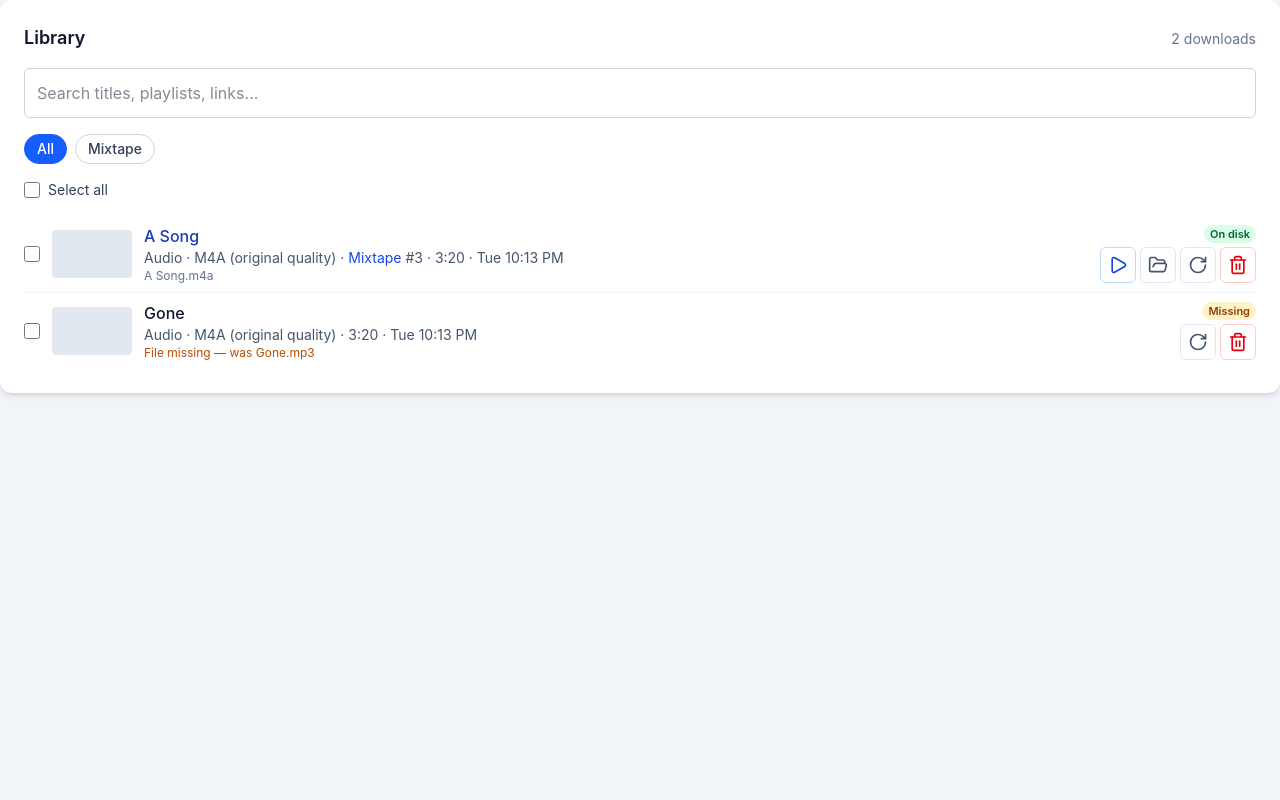
Test: LibraryView › adds selected downloads to a playlist and removes them
Expected: the button "A Song" is shown, [144,224,199,248]
Click the checkbox labelled "Select all".
click(32, 190)  # box [24,182,40,198]
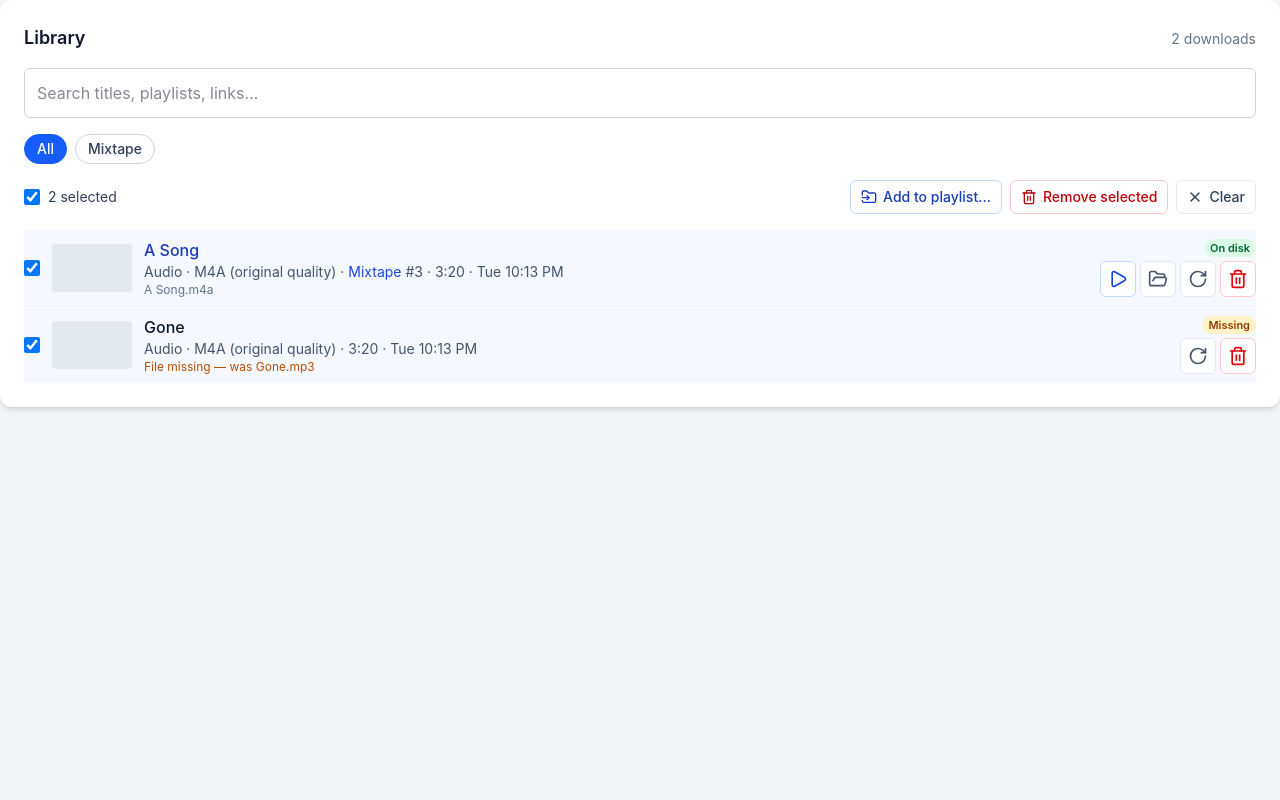
Expected: the text "2 selected" is shown, [24,187,117,207]
Click the button "Add to playlist…".
click(926, 197)  # box [850,180,1002,214]
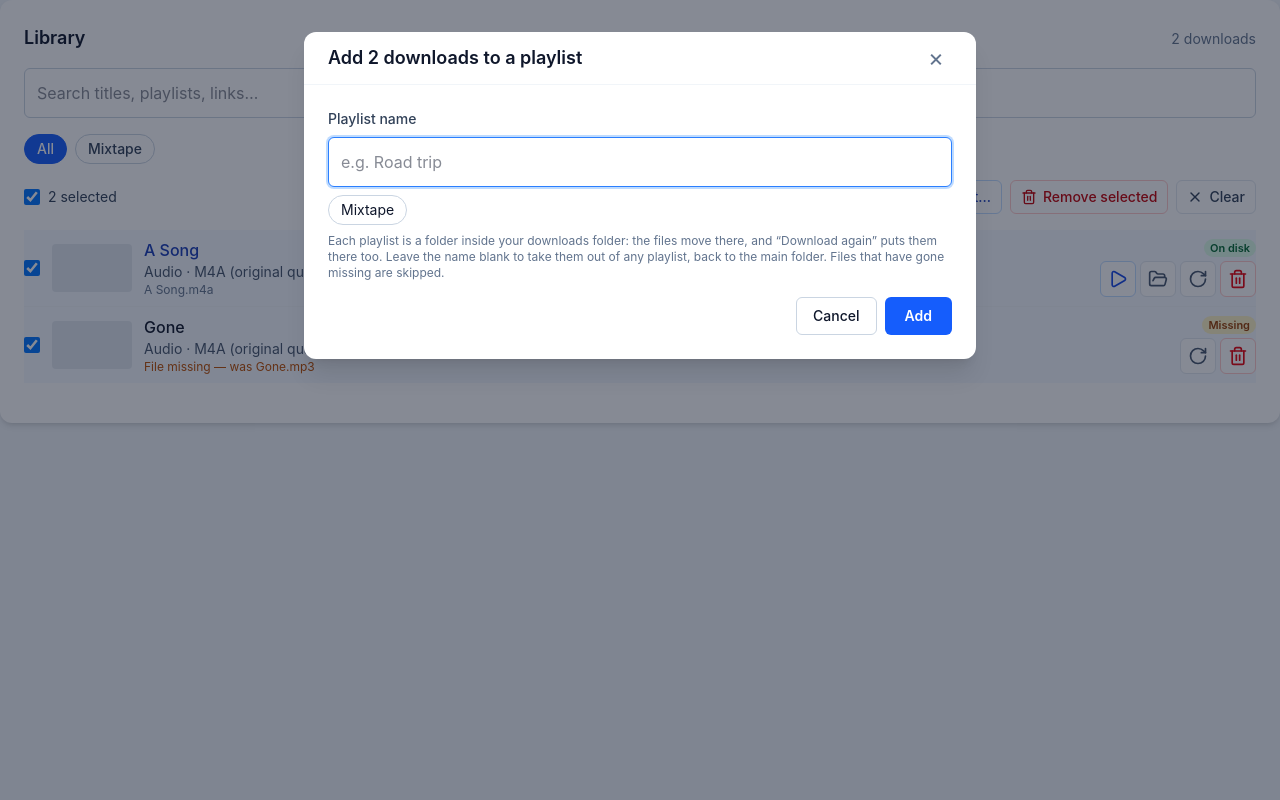
Click the button "Mixtape".
click(368, 210)  # box [328,195,407,225]
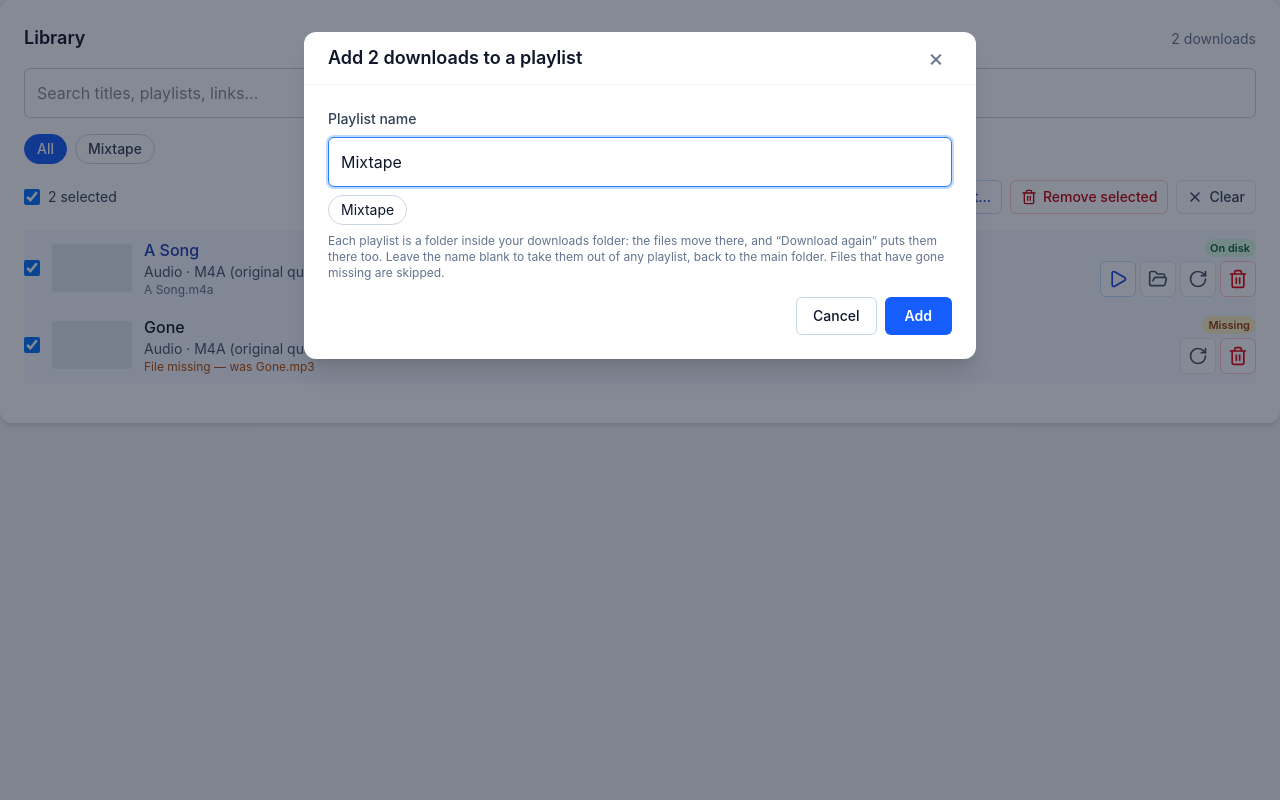
Expected: the field labelled "Playlist name" holds "Mixtape"
Replace the text in the field labelled "Playlist name" with "Road trip" at (640, 162), box [328,137,952,187]
Click the button "Add".
click(918, 316)  # box [884,297,952,335]
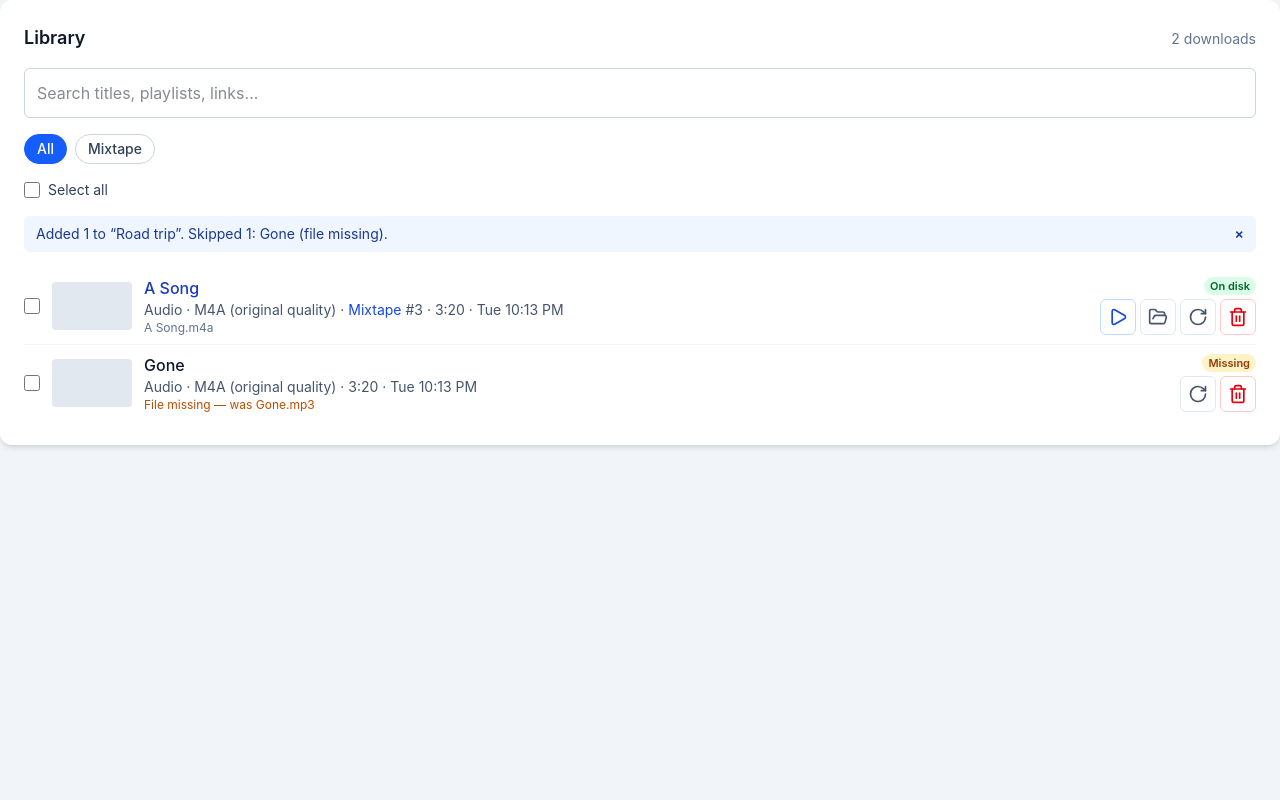
Expected: the text "Added 1 to “Road trip”. Skipped 1: Gone (file missing)." is shown, [36,224,388,244]
Expected: the dialog is gone
Click the checkbox labelled "Select all".
click(32, 190)  # box [24,182,40,198]
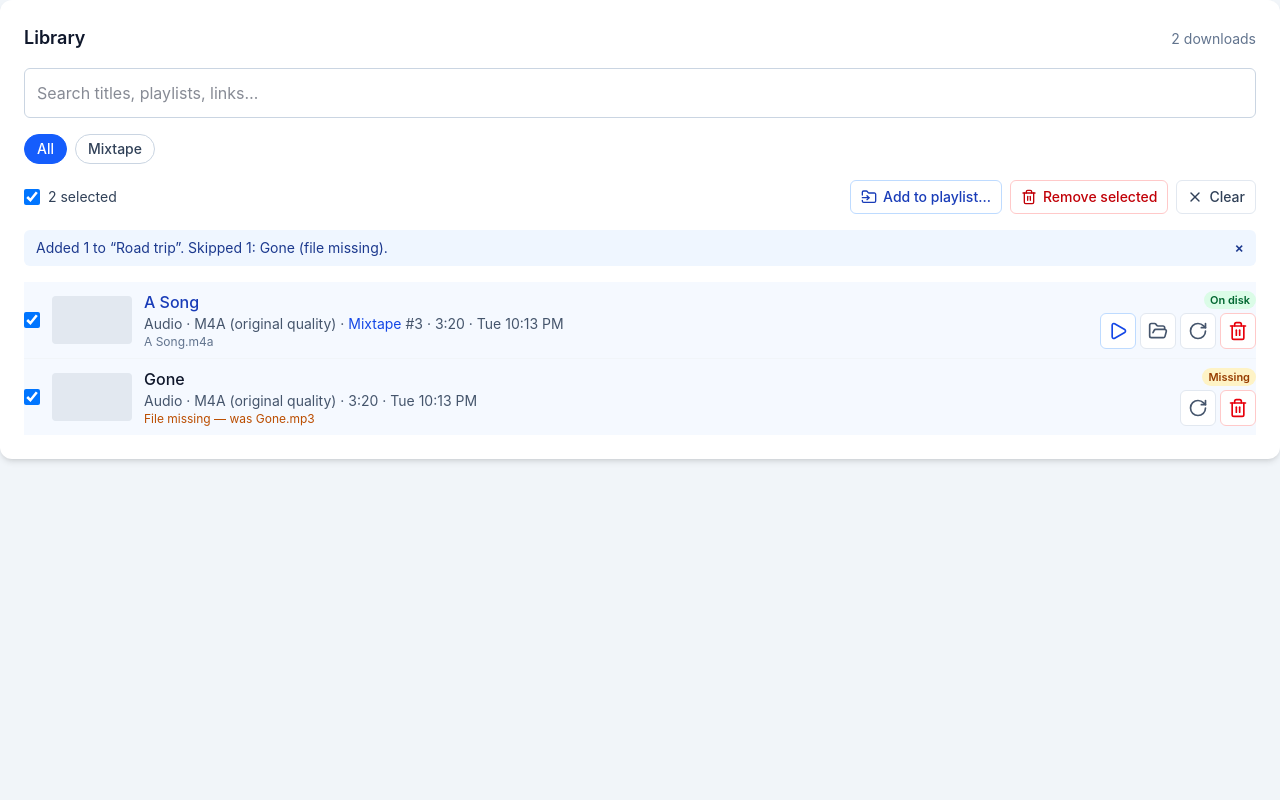
Click the button "Remove selected".
click(1089, 197)  # box [1010,180,1168,214]
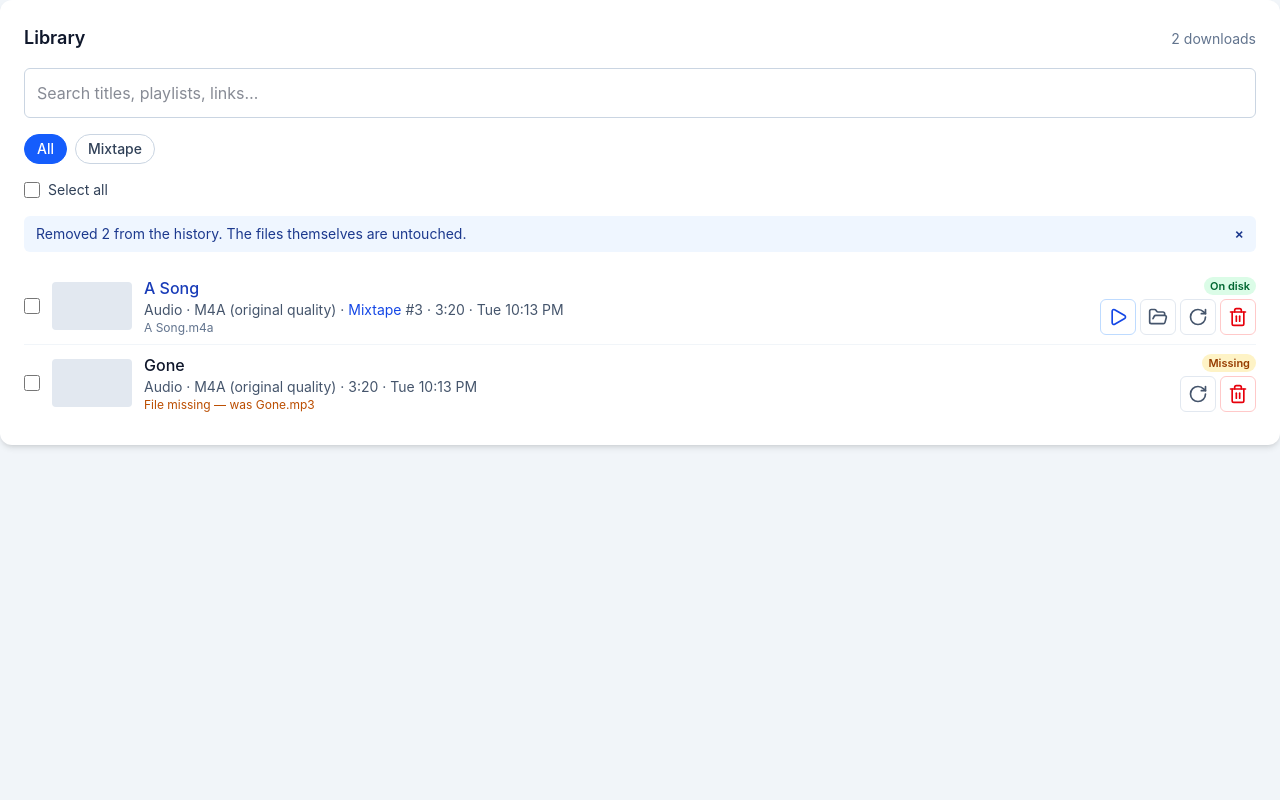
Expected: the text "Removed 2 from the history" is shown, [36,225,466,242]
